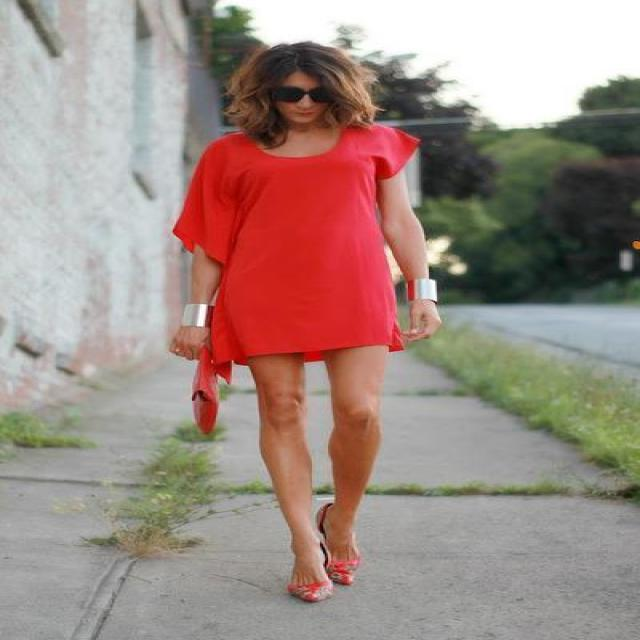bag: (192, 372, 230, 438)
dress: (173, 127, 419, 359)
shoe: (288, 574, 349, 603)
sunglass: (296, 74, 344, 108)
